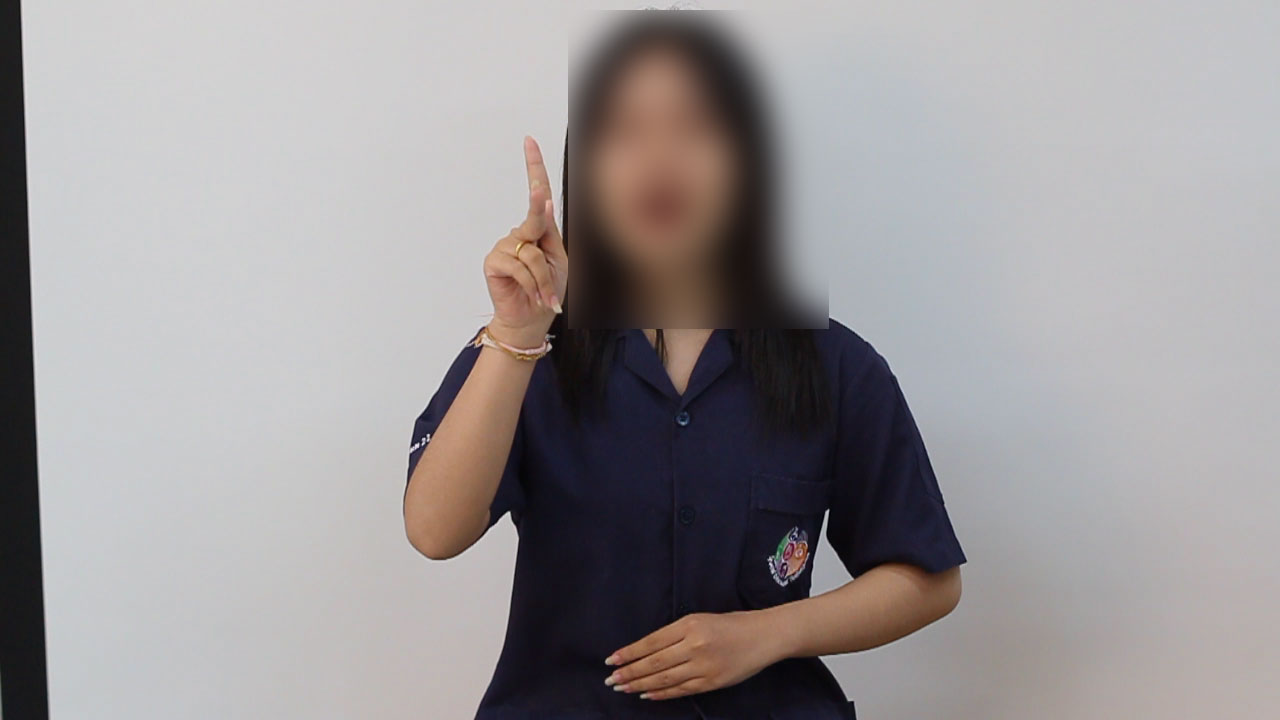ko: (423, 119, 599, 357)
